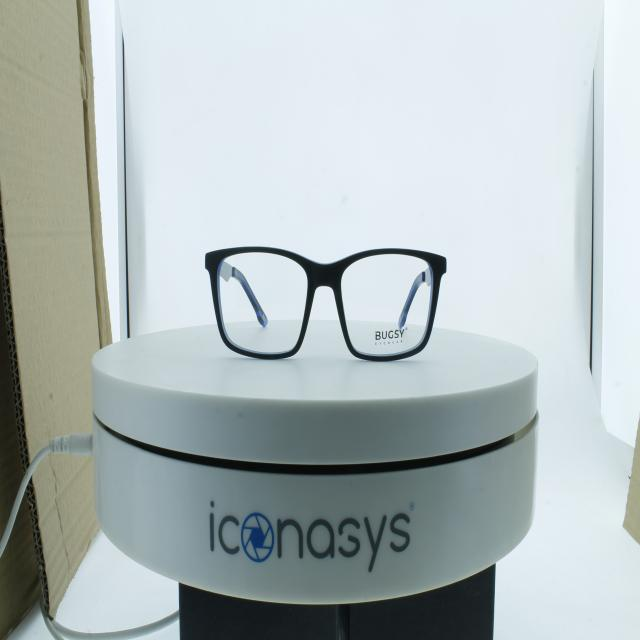Specs: (193, 220, 463, 373)
